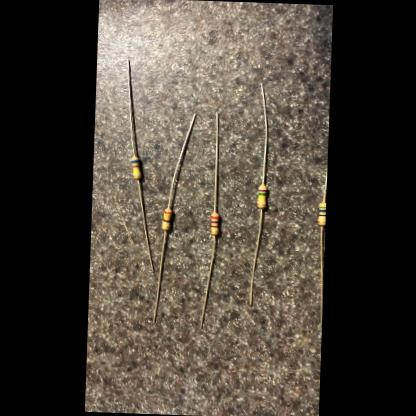resistor: (160, 207, 172, 230), (130, 156, 142, 177), (255, 185, 266, 207), (209, 212, 220, 233), (317, 202, 325, 224)
wire: (166, 112, 194, 208), (133, 179, 156, 271), (199, 235, 214, 329), (124, 59, 138, 155), (255, 82, 268, 184), (249, 207, 262, 304), (152, 231, 165, 322), (212, 111, 219, 211), (317, 226, 324, 324), (322, 167, 326, 201)
